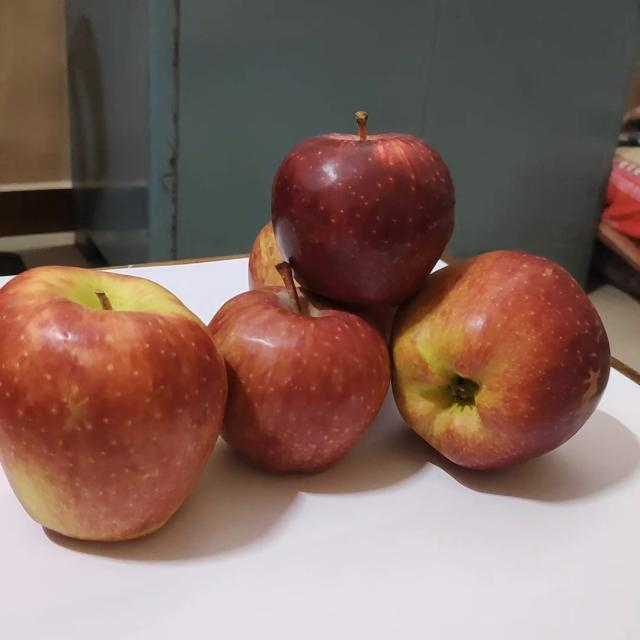apple: (2, 251, 209, 540), (364, 230, 605, 473), (186, 249, 380, 474), (252, 94, 447, 304), (232, 203, 306, 291)
